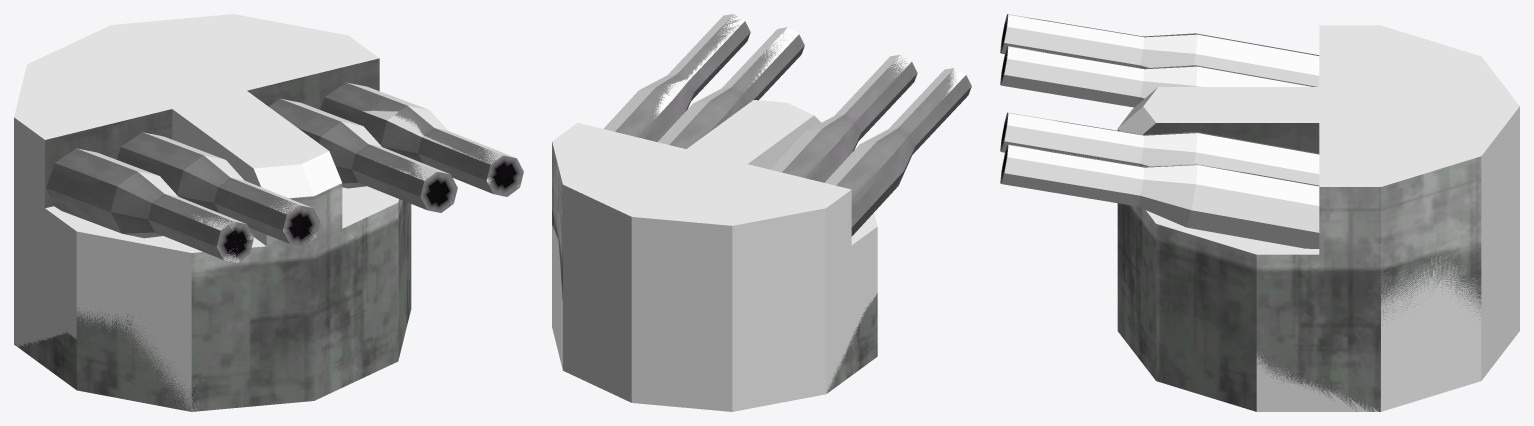
File: Pelleaon_Turret_01.obj
3 views of the same model, side by side, from view 1: azimuth 30°, elevation 25°; view 2: azimuth 150°, elevation 25°; view 3: azimuth 270°, elevation 25° (orthographic). The views are drawn at different scales.
Parts seen in each view (by area): view 1: T_shadow, Turret_01, barrel; view 2: T_shadow, barrel, Turret_01; view 3: T_shadow, Turret_01, barrel.
Part boxes in pixels (left/top/right/bottom): T_shadow: left=14, top=14, right=519, bottom=411; Turret_01: left=14, top=58, right=411, bottom=411; barrel: left=46, top=82, right=523, bottom=262; T_shadow: left=552, top=14, right=965, bottom=411; barrel: left=615, top=14, right=971, bottom=236; Turret_01: left=552, top=142, right=877, bottom=393; T_shadow: left=1000, top=14, right=1519, bottom=411; Turret_01: left=1117, top=123, right=1481, bottom=411; barrel: left=1000, top=14, right=1319, bottom=186.
Bounding box in the file's own units: 6.15 × 4.45 × 8.36.
